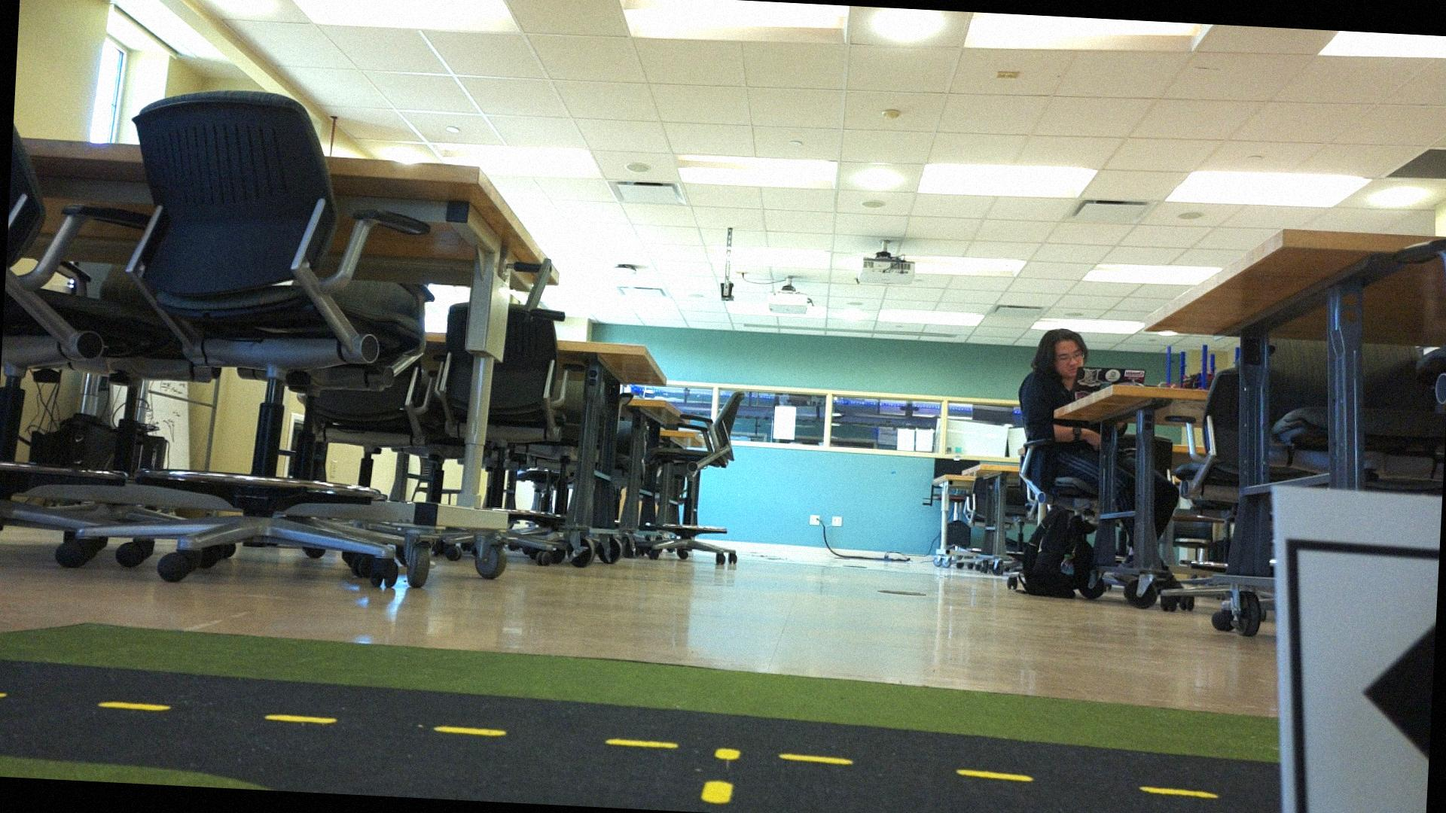yellowline: (0, 678, 1215, 799)
